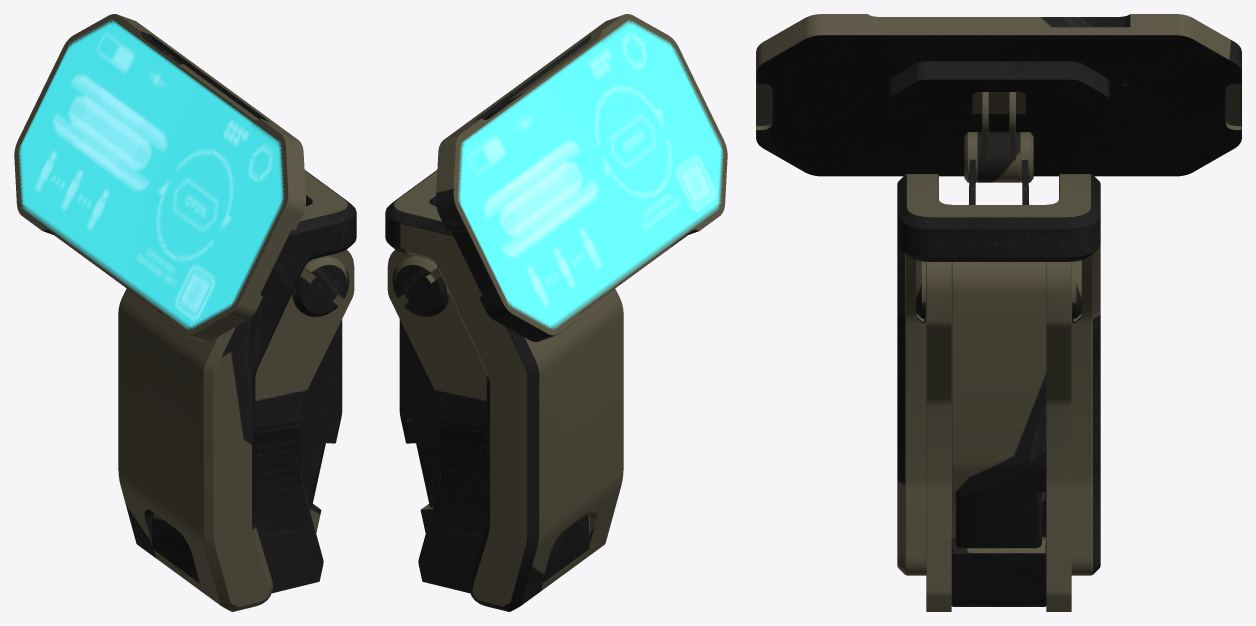
The picture shows the model from 3 angles, left to right: view 1: azimuth 30°, elevation 25°; view 2: azimuth 150°, elevation 25°; view 3: azimuth 270°, elevation 25°; orthographic projection. The views are drawn at different scales.
Visible parts, largest first — view 1: screen_low, front_piece_low, middle_piece_low, back_piece_low; view 2: screen_low, front_piece_low, middle_piece_low, back_piece_low; view 3: screen_low, back_piece_low, front_piece_low, middle_piece_low, hinge_bottom_low.
Boxes of the visible parts, box(x1,y1,x2,y2) form: screen_low: box(14, 14, 306, 341); front_piece_low: box(118, 170, 356, 611); middle_piece_low: box(255, 249, 354, 593); back_piece_low: box(301, 319, 342, 532); screen_low: box(435, 14, 727, 341); front_piece_low: box(385, 170, 623, 611); middle_piece_low: box(387, 249, 486, 593); back_piece_low: box(399, 319, 440, 532); screen_low: box(756, 14, 1241, 182); back_piece_low: box(951, 262, 1046, 606); front_piece_low: box(897, 174, 1100, 575); middle_piece_low: box(916, 260, 1081, 611); hinge_bottom_low: box(964, 132, 1033, 204).
Bounding box in the file's own units: 2.56 × 5.63 × 4.49.
